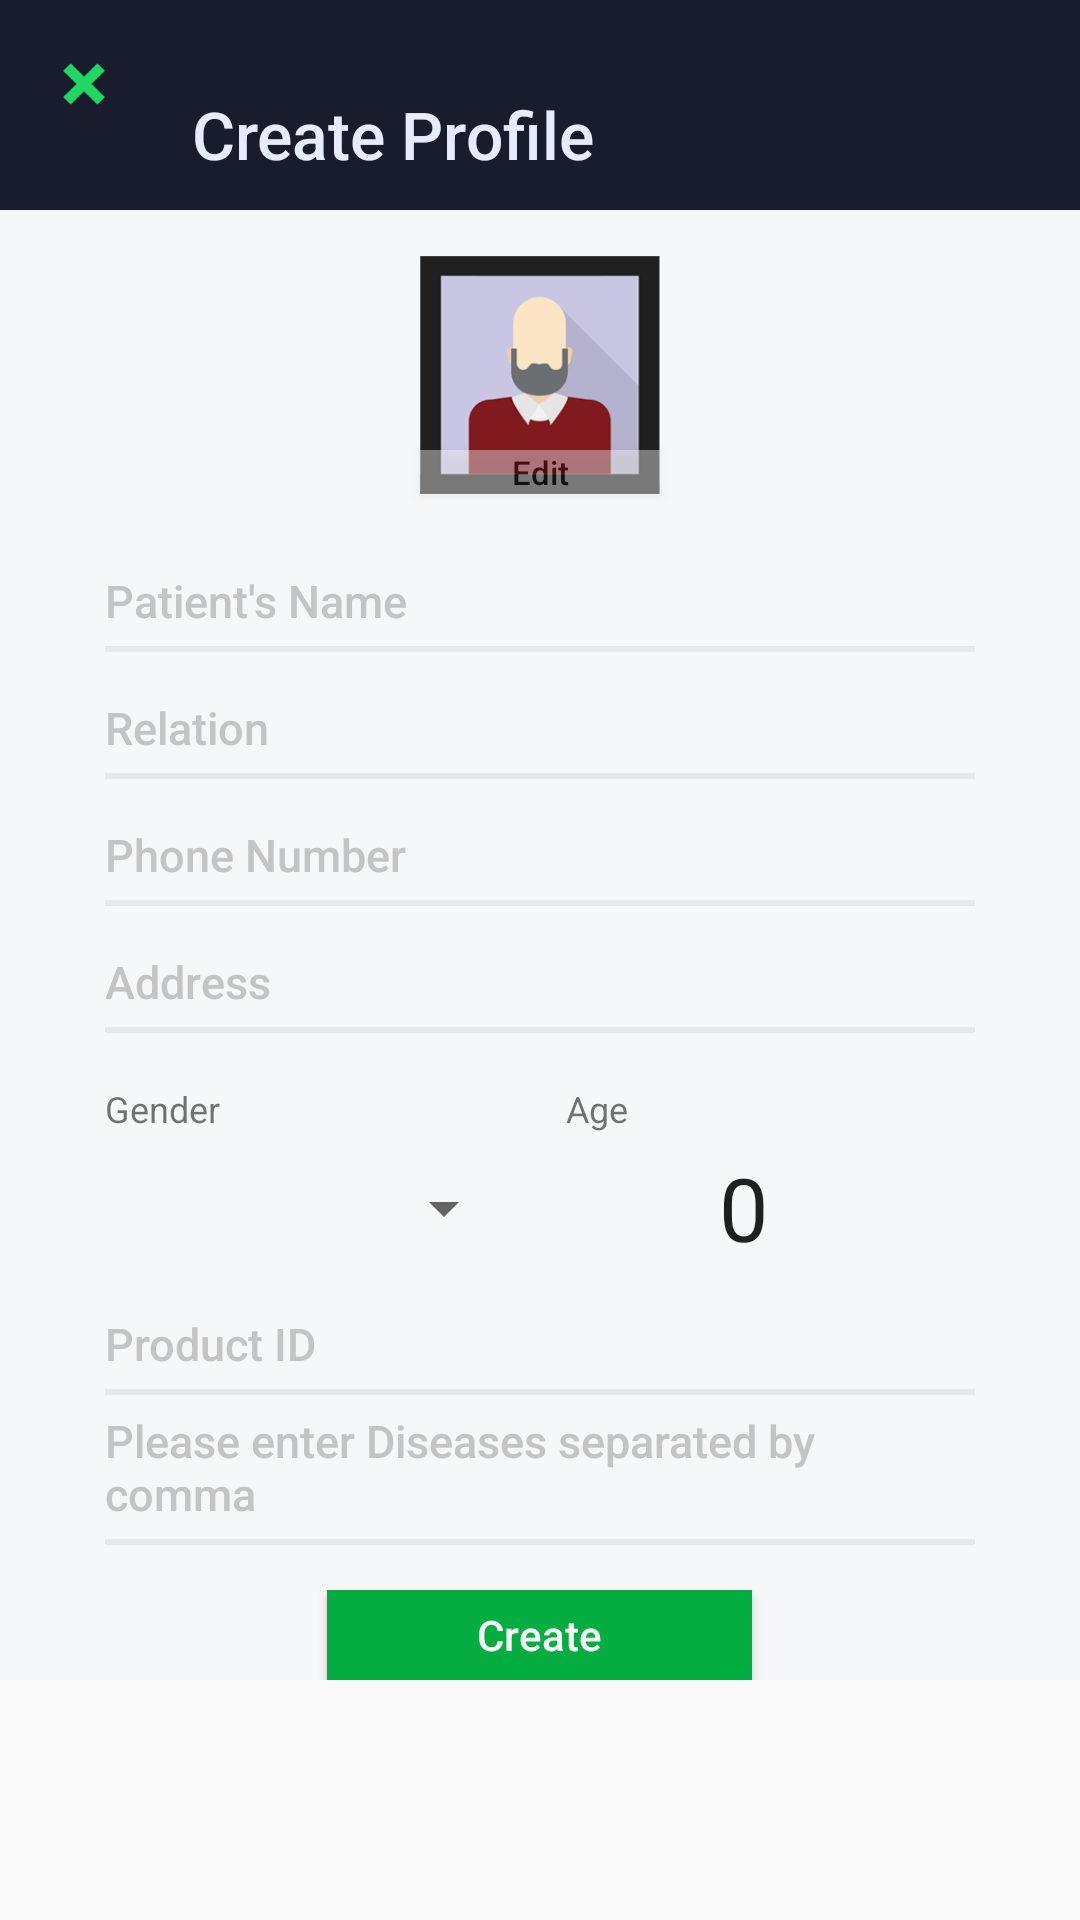

Named icons in this screenshot (1080px x 1920px) and their centers, (x=x, y=y):
male profile: (x=540, y=375)
